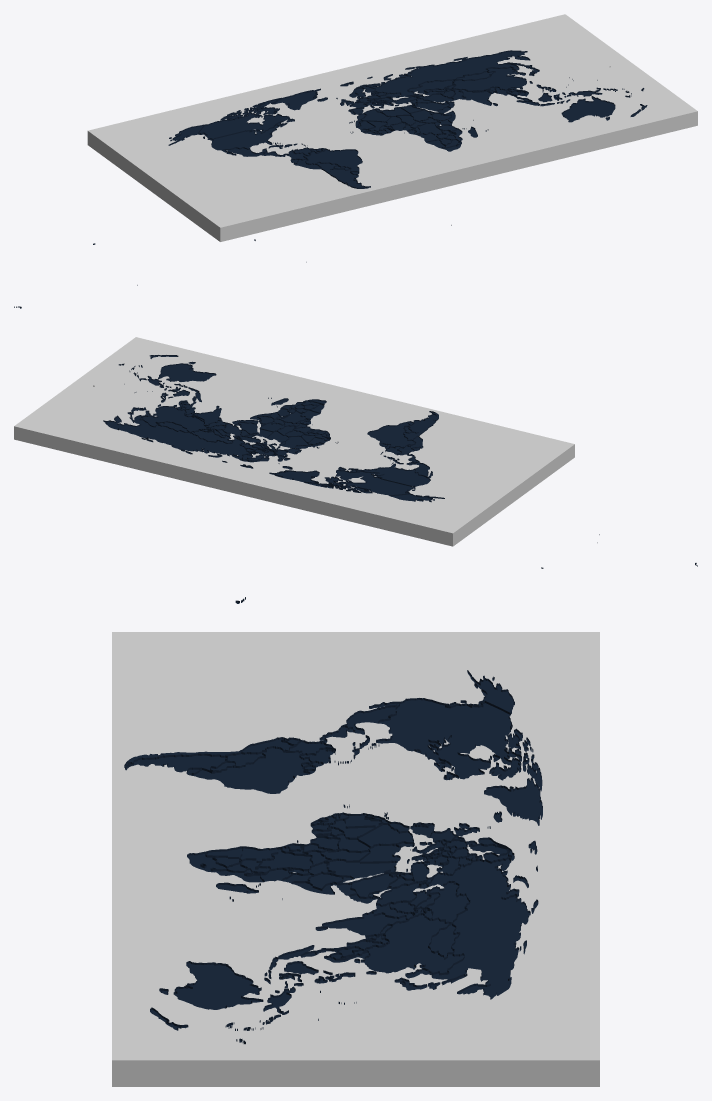
Rendered from word.fbx.
3 renders of one model, top to bottom at view 1: azimuth 30°, elevation 25°; view 2: azimuth 150°, elevation 25°; view 3: azimuth 270°, elevation 25°, orthographic. The views are drawn at different scales.
Visible parts, largest first — view 1: denız, Plane.516, Plane.752, Plane.751, Plane.750, Plane.473, Plane.644, Plane.753; view 2: denız, Plane.516, Plane.752, Plane.751, Plane.750, Plane.473, Plane.644, Plane.753; view 3: denız, Plane.516, Plane.752, Plane.751, Plane.750, Plane.644, Plane.473, Plane.753, Plane.577, Plane.566, Plane.634, Plane.379 (+3 smaller).
Part boxes in pixels (x1=…): denız: x1=87, y1=14, x2=697, y2=241; Plane.516: x1=366, y1=50, x2=530, y2=96; Plane.752: x1=198, y1=111, x2=289, y2=138; Plane.751: x1=452, y1=66, x2=526, y2=90; Plane.750: x1=211, y1=124, x2=279, y2=150; Plane.473: x1=561, y1=96, x2=615, y2=122; Plane.644: x1=303, y1=148, x2=362, y2=171; Plane.753: x1=271, y1=88, x2=320, y2=110; denız: x1=14, y1=337, x2=574, y2=546; Plane.516: x1=103, y1=415, x2=248, y2=459; Plane.752: x1=335, y1=468, x2=413, y2=495; Plane.751: x1=140, y1=406, x2=207, y2=431; Plane.750: x1=356, y1=463, x2=430, y2=486; Plane.473: x1=158, y1=363, x2=216, y2=381; Plane.644: x1=367, y1=421, x2=415, y2=447; Plane.753: x1=269, y1=470, x2=319, y2=483; denız: x1=112, y1=632, x2=599, y2=1086; Plane.516: x1=427, y1=857, x2=530, y2=999; Plane.752: x1=429, y1=701, x2=516, y2=779; Plane.751: x1=361, y1=913, x2=464, y2=973; Plane.750: x1=376, y1=698, x2=451, y2=763; Plane.644: x1=190, y1=746, x2=313, y2=793; Plane.473: x1=173, y1=961, x2=263, y2=1009; Plane.753: x1=484, y1=777, x2=542, y2=825; Plane.577: x1=322, y1=911, x2=408, y2=943; Plane.566: x1=425, y1=881, x2=470, y2=922; Plane.634: x1=132, y1=753, x2=227, y2=772; Plane.379: x1=343, y1=701, x2=399, y2=734.
Size of the model in its own units: 347 by 123 by 33.98.
